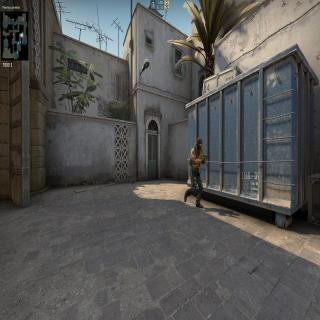T-Head: (196, 135, 202, 152)
